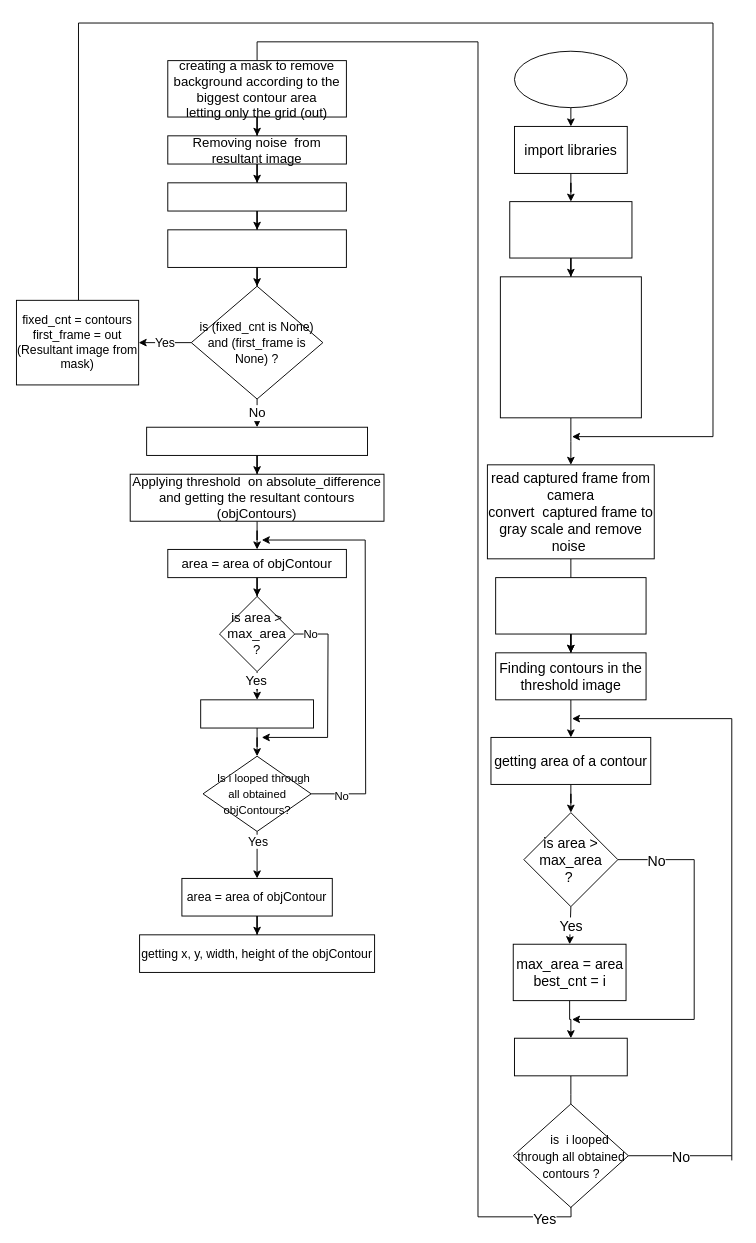
Some shapes in this 756 by 1243 pixel diagram are drawn without their labels. The centre of each missing label's shape, as x and y in pixels:
absolute_difference = | out - first_frame|: the point at 257,440
Applying threshold: the point at 256,196
applying threshold to the Resultant image: the point at 570,605
c = c +1: the point at 570,1056
Finding contours in the new threshold image: the point at 256,248
first_frame = None fixed_cnt = None max_area = 0 c = 0: the point at 570,347
max_area = area: the point at 256,713
setting the camera: the point at 570,229
START: the point at 570,79
